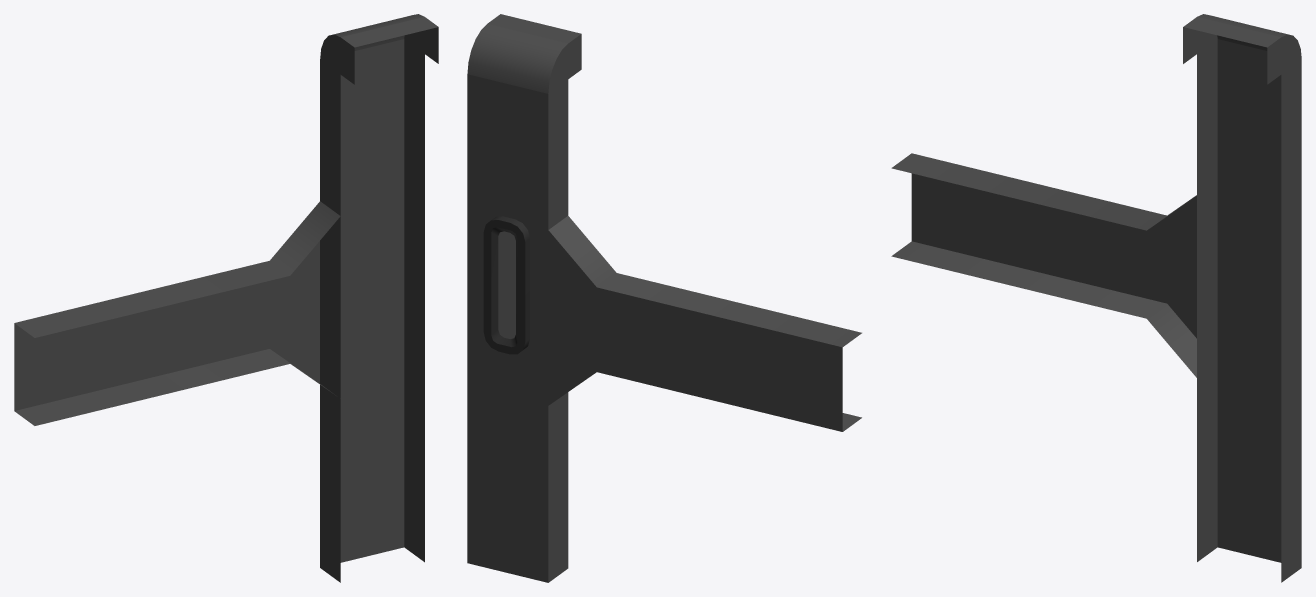
The model's file is SM_cable_right_02.fbx.
3 renders of one model, left to right at view 1: azimuth 30°, elevation 25°; view 2: azimuth 150°, elevation 25°; view 3: azimuth 330°, elevation 25°, orthographic. The views are drawn at different scales.
Parts seen in each view (by area): view 1: SM_cable_right_02; view 2: SM_cable_right_02; view 3: SM_cable_right_02.
Boxes of the visible parts, left/top/right/bottom form: SM_cable_right_02: left=14, top=14, right=438, bottom=582; SM_cable_right_02: left=467, top=14, right=861, bottom=582; SM_cable_right_02: left=891, top=14, right=1301, bottom=582.
Bounding box in the file's own units: 112 × 150 × 19.69.
Materials: 2 (2 with a texture image).
